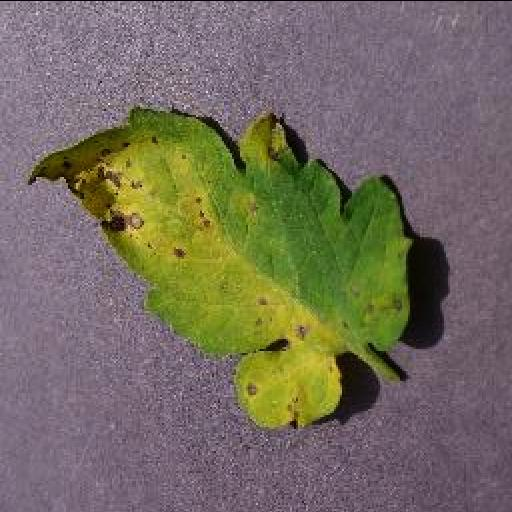disease_tomato: (30, 104, 420, 430)
